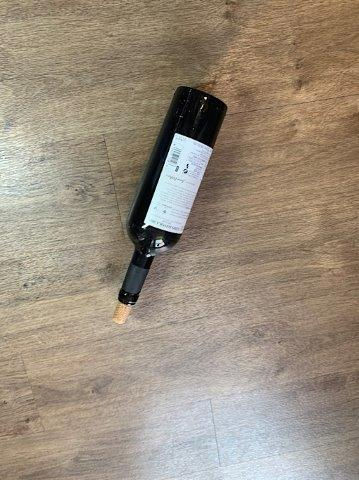botolkaca: (117, 86, 226, 306)
